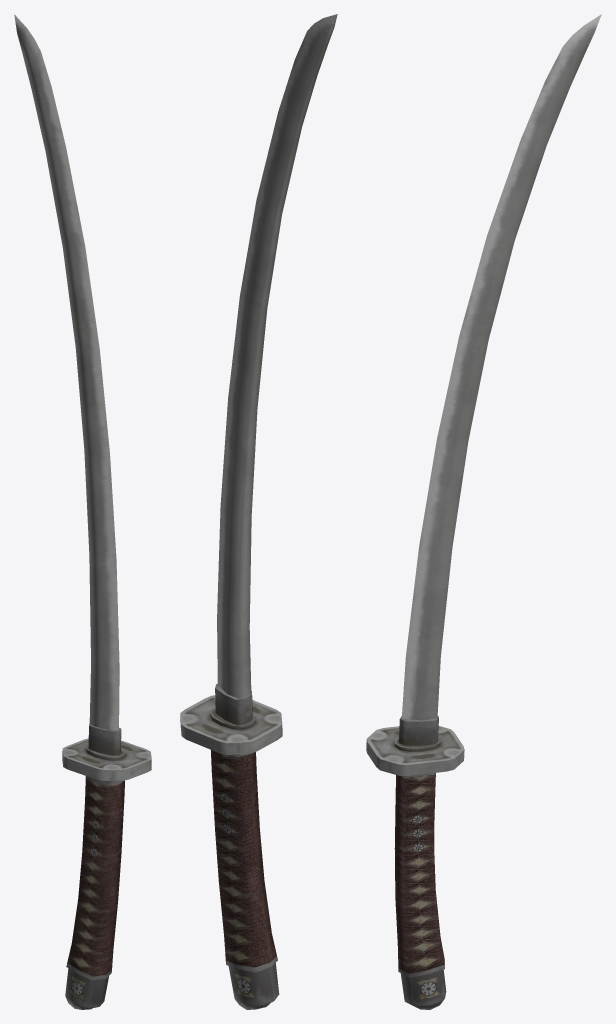
File: weapon-heavydojosoldiers.glb
The picture shows the model from 3 angles, left to right: view 1: azimuth 30°, elevation 25°; view 2: azimuth 210°, elevation 25°; view 3: azimuth 270°, elevation 25°; orthographic projection. The views are drawn at different scales.
Bounding box in the file's own units: 0.139 × 1.68 × 0.3602.
1 material, 1 textured.
